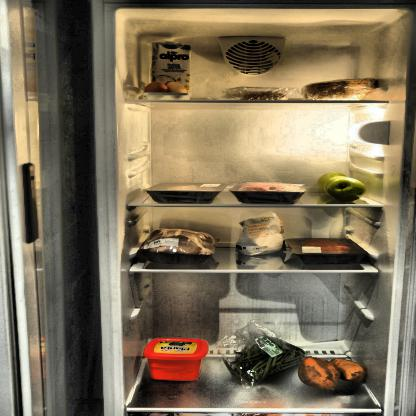apple: (316, 170, 367, 203)
beef: (300, 237, 352, 261)
butter: (144, 337, 209, 381)
chicken: (138, 227, 211, 266)
eggs: (143, 80, 190, 99)
green_beans: (231, 334, 308, 384)
ground_beef: (234, 181, 304, 202)
milk: (150, 40, 191, 96)
shrimp: (230, 89, 291, 101)
sweet_potato: (298, 354, 370, 391)
